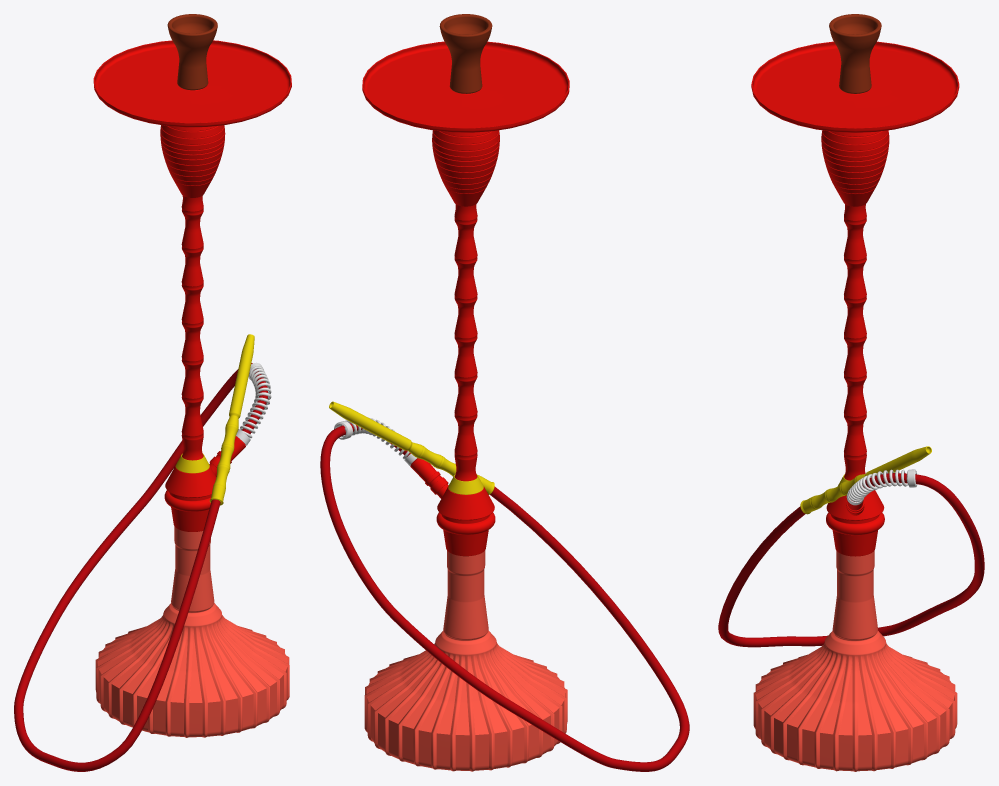
The model's file is hookah.glb.
3 views of the same model, side by side, from view 1: azimuth 30°, elevation 25°; view 2: azimuth 150°, elevation 25°; view 3: azimuth 270°, elevation 25° (orthographic). The views are drawn at different scales.
Visible parts, largest first — view 1: Cylinder_high, Circle_high, BezierCurve_high, Cylinder.004_high, Cylinder.003_high, Cylinder.006_high, Cylinder.001_high, Cylinder.005_high, Circle.101_high; view 2: Cylinder_high, Circle_high, BezierCurve_high, Cylinder.004_high, Cylinder.003_high, Cylinder.001_high, Cylinder.006_high, Cylinder.005_high, Cylinder.007_high; view 3: Cylinder_high, Circle_high, BezierCurve_high, Cylinder.004_high, Cylinder.003_high, Cylinder.006_high, Cylinder.001_high, Cylinder.005_high, Circle.101_high.
Boxes of the visible parts, bbox=[...] form: Cylinder_high: bbox=[95, 526, 289, 737]; Circle_high: bbox=[93, 40, 291, 127]; BezierCurve_high: bbox=[14, 363, 267, 771]; Cylinder.004_high: bbox=[181, 195, 203, 460]; Cylinder.003_high: bbox=[160, 125, 225, 197]; Cylinder.006_high: bbox=[167, 14, 217, 90]; Cylinder.001_high: bbox=[164, 465, 216, 531]; Cylinder.005_high: bbox=[209, 334, 254, 505]; Circle.101_high: bbox=[236, 362, 271, 445]; Cylinder_high: bbox=[364, 550, 567, 771]; Circle_high: bbox=[362, 41, 569, 132]; BezierCurve_high: bbox=[320, 423, 689, 771]; Cylinder.004_high: bbox=[454, 204, 477, 481]; Cylinder.003_high: bbox=[432, 130, 499, 206]; Cylinder.001_high: bbox=[436, 486, 495, 556]; Cylinder.006_high: bbox=[439, 14, 492, 93]; Cylinder.005_high: bbox=[329, 401, 494, 494]; Cylinder.007_high: bbox=[410, 458, 448, 498]; Cylinder_high: bbox=[753, 550, 957, 771]; Circle_high: bbox=[751, 41, 959, 132]; BezierCurve_high: bbox=[718, 473, 984, 647]; Cylinder.004_high: bbox=[844, 204, 866, 480]; Cylinder.003_high: bbox=[821, 130, 889, 206]; Cylinder.006_high: bbox=[829, 14, 881, 93]; Cylinder.001_high: bbox=[826, 490, 884, 556]; Cylinder.005_high: bbox=[800, 446, 931, 514]; Circle.101_high: bbox=[846, 469, 917, 505].
Size of the model in its own units: 0.582 by 1.37 by 0.4645.
